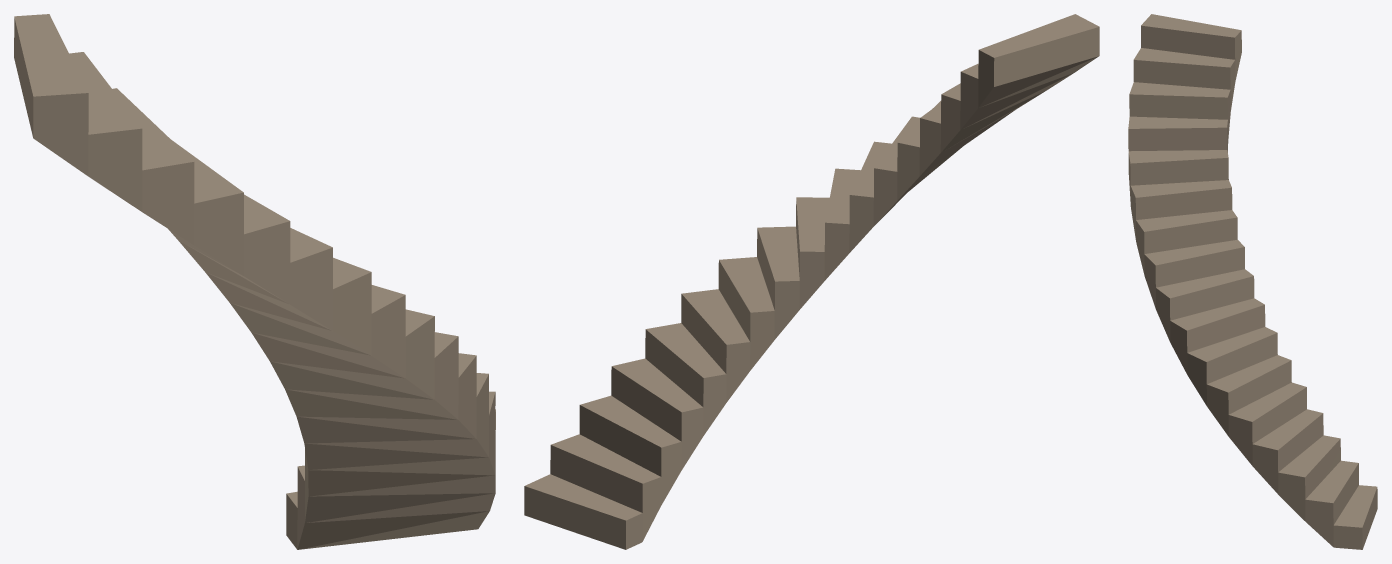
Rendered from stairs.glb.
3 renders of one model, left to right at view 1: azimuth 30°, elevation 25°; view 2: azimuth 150°, elevation 25°; view 3: azimuth 270°, elevation 25°, orthographic. The views are drawn at different scales.
Parts seen in each view (by area): view 1: Stairs2.001_tcollider; view 2: Stairs2.001_tcollider; view 3: Stairs2.001_tcollider.
Boxes of the visible parts, x1,y1,x2,y2 form: Stairs2.001_tcollider: (14,14,495,549); Stairs2.001_tcollider: (524,14,1099,549); Stairs2.001_tcollider: (1128,14,1377,549).
Bounding box in the file's own units: 0.8868 × 0.9606 × 0.5782.
